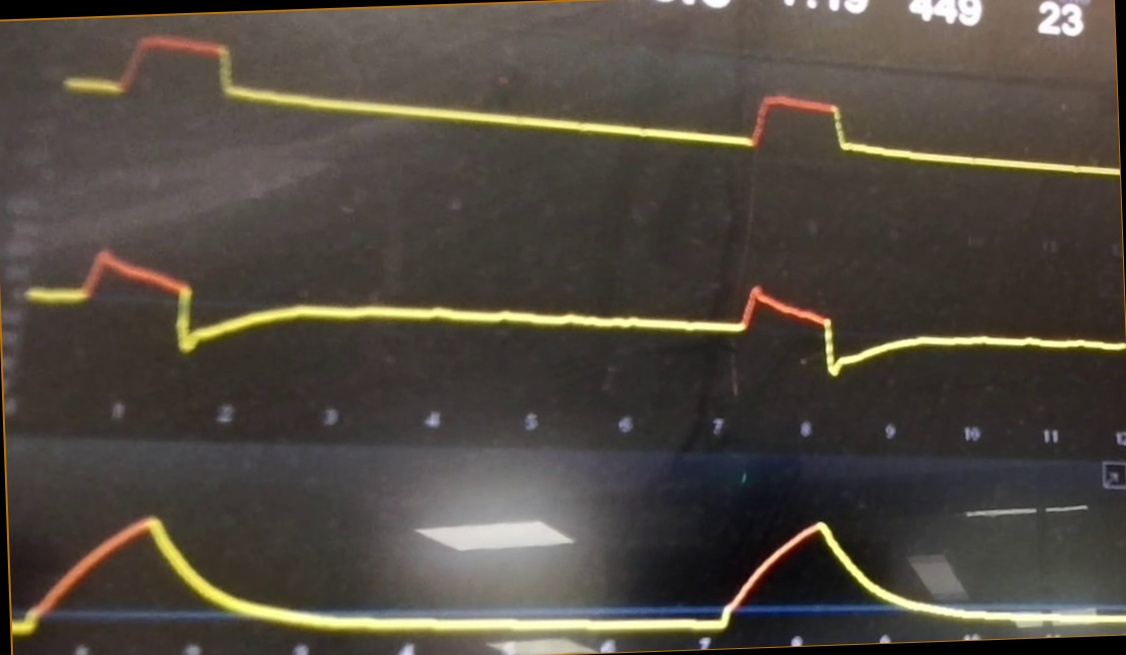Normal Flow: (31, 235, 1123, 386)
Normal Volume: (15, 483, 1123, 630)
